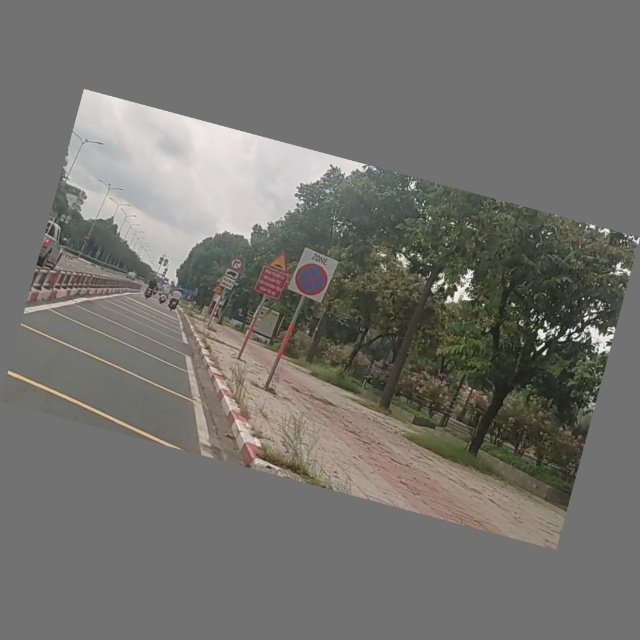P.123b: (228, 256, 244, 272)
P.130: (289, 246, 337, 303)
S.505a*Xe tai: (219, 267, 239, 292)
W.221b: (266, 249, 293, 275)
